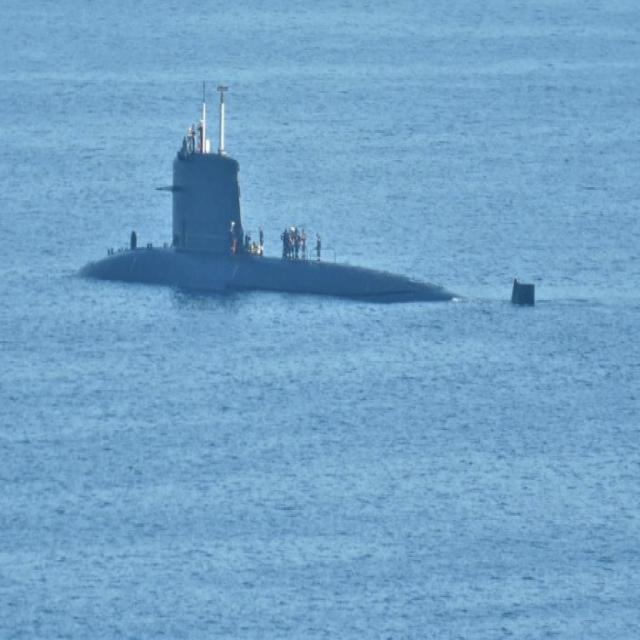submarine: (64, 153, 534, 308)
